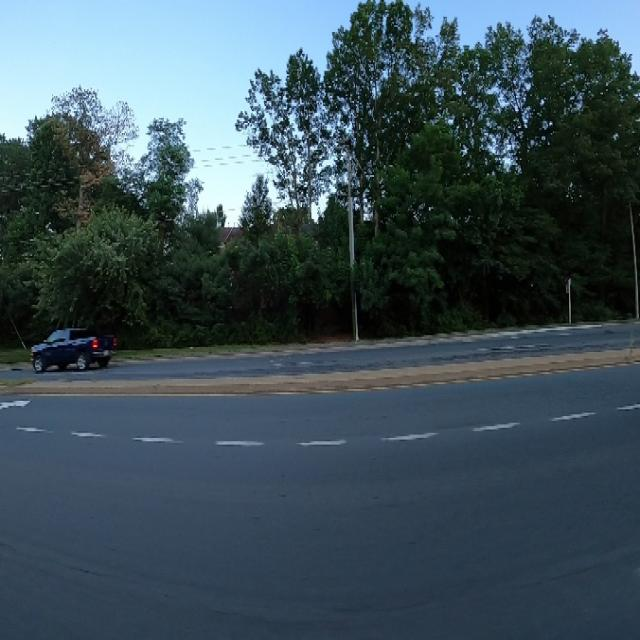cars: (28, 310, 117, 381)
